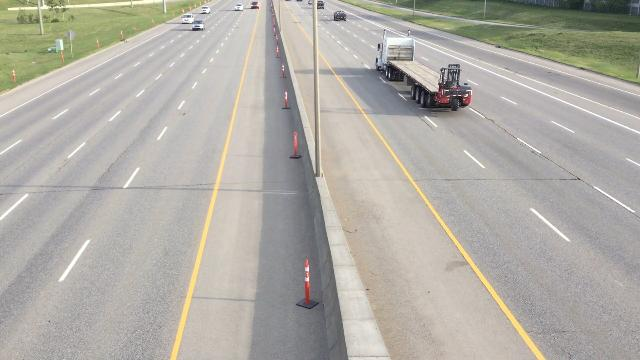car: (331, 9, 349, 23), (189, 19, 207, 32), (182, 13, 194, 24), (200, 5, 210, 13)
truck: (372, 28, 470, 111)
